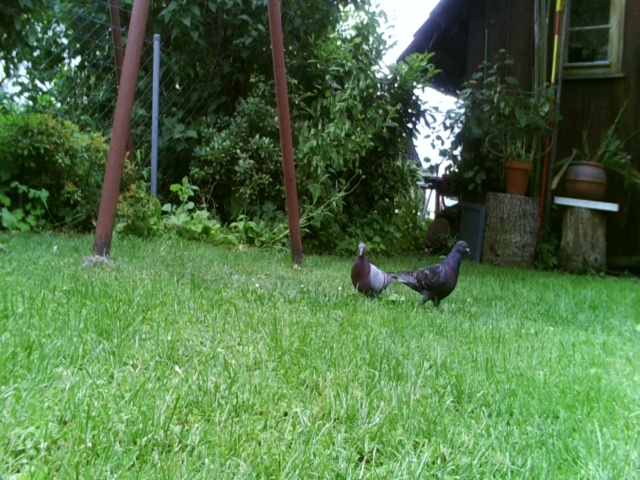Pigeon: (391, 239, 472, 314), (349, 237, 393, 302)
